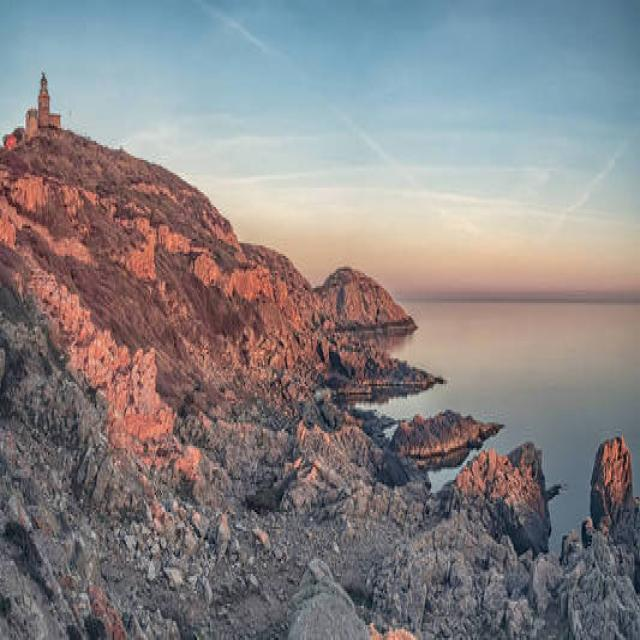reef: (390, 357, 632, 562)
